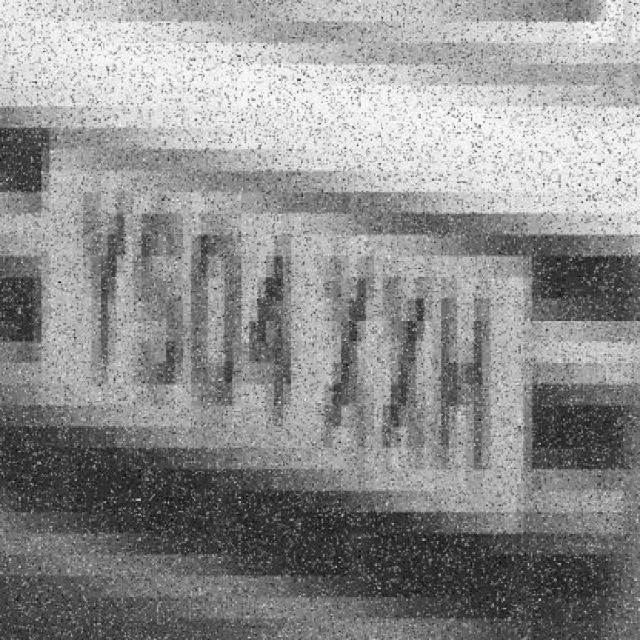licenseplate: (36, 112, 553, 566)
